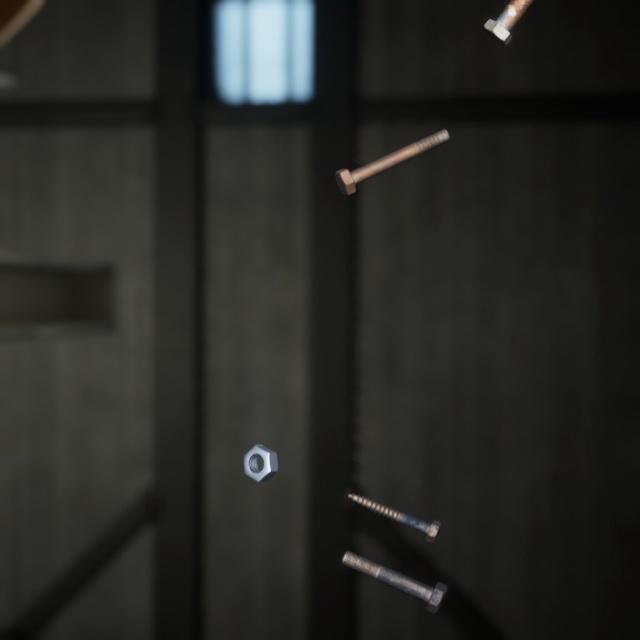bolt: (330, 111, 454, 186), (337, 524, 451, 596), (343, 468, 446, 526), (479, 0, 535, 45)
nut: (238, 419, 282, 465)
